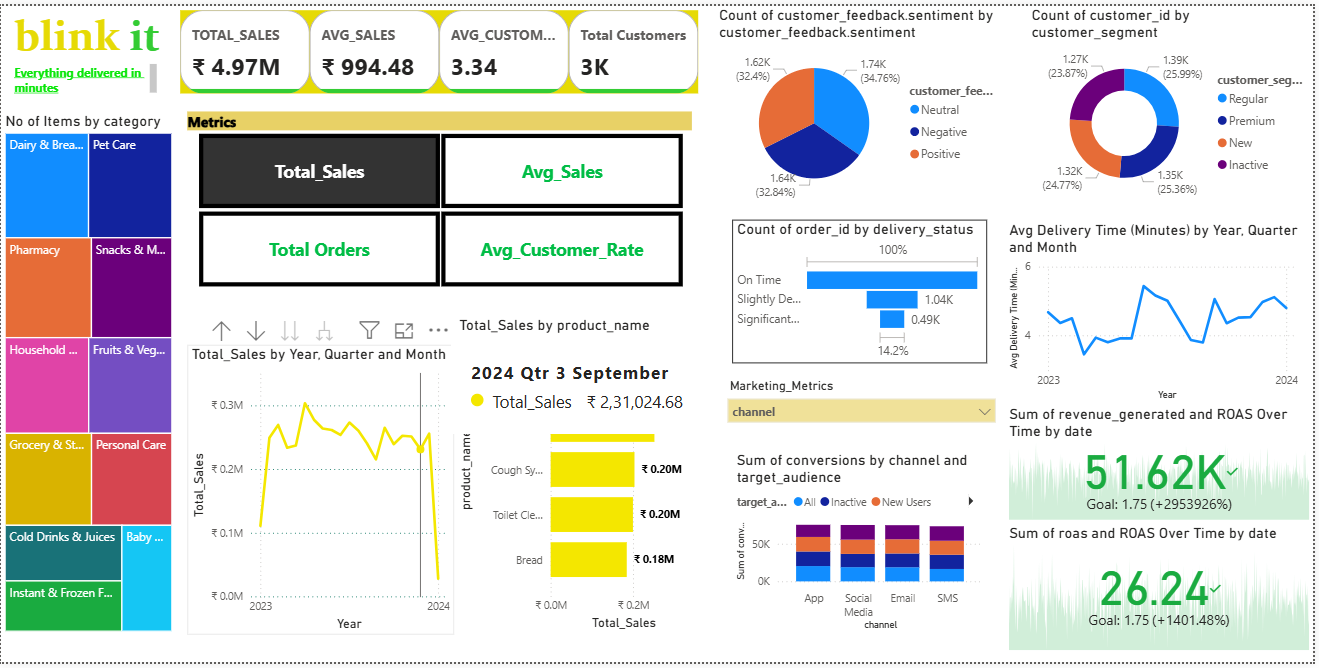

The dashboard page shown, as its layout file describes it:
{"tool":"powerbi","page":{"name":"Page 1","canvas":[1500,750],"ordinal":0},"visuals":[{"type":"lineChart","fields":{"Y":["orders_details.Total_Sales"],"Category":["orders_details.order_date.Variation.Date Hierarchy.Year","orders_details.order_date.Variation.Date Hierarchy.Quarter","orders_details.order_date.Variation.Date Hierarchy.Month"]},"box":[213.3,386.7,305,331.7],"z":0},{"type":"barChart","fields":{"Y":["orders_details.Total_Sales"],"Category":["product_data.product_name"]},"box":[518.3,355,301.7,363.3],"z":1000},{"type":"pieChart","fields":{"Y":["CountNonNull(customers_detail.customer_feedback.sentiment)"],"Category":["customers_detail.customer_feedback.sentiment"]},"box":[815.7,0,331.4,230],"z":2000},{"type":"donutChart","fields":{"Category":["customers_detail.customer_segment"],"Y":["CountNonNull(customers_detail.customer_id)"]},"box":[1172.9,0,327.1,230],"z":3000},{"type":"funnel","fields":{"Category":["delivery_performance.delivery_status"],"Y":["CountNonNull(delivery_performance.order_id)"]},"box":[835.7,244.3,291.4,164.3],"z":4000},{"type":"textbox","box":[9.6,0,190.7,76.8],"z":5000},{"type":"textbox","box":[9.6,61.7,172.9,43.9],"z":6000},{"type":"cardVisual","fields":{"Data":["orders_details.Total_Sales","orders_details.Avg_Sales","customers_detail.Avg_Customer_Rate","customers_detail.Total Customers"]},"box":[200,0,603.3,105],"z":7000},{"type":"treemap","fields":{"Group":["product_data.category"],"Values":["product_data.No of Items"]},"box":[0,120.8,200.3,598.3],"z":8000},{"type":"columnChart","fields":{"Category":["marketing_performance.channel"],"Series":["marketing_performance.target_audience"],"Y":["Sum(marketing_performance.conversions)"]},"box":[836,508,292,210],"z":9000},{"type":"slicer","fields":{"Values":["Marketing_Metrics.Marketing_Metrics"]},"box":[820,420,326.7,81.7],"z":10000},{"type":"slicer","fields":{"Values":["Metrics 2.Metrics"]},"box":[200,115.7,602.9,211.4],"z":11000},{"type":"lineChart","fields":{"Y":["delivery_performance.Avg Delivery Time (Minutes)"],"Category":["delivery_performance.actual_time.Variation.Date Hierarchy.Year","delivery_performance.actual_time.Variation.Date Hierarchy.Quarter","delivery_performance.actual_time.Variation.Date Hierarchy.Month"]},"box":[1146.7,245,340,210],"z":12000},{"type":"kpi","fields":{"TrendLine":["marketing_performance.date"],"Goal":["marketing_performance.ROAS Over Time"],"Indicator":["Sum(marketing_performance.revenue_generated)"]},"box":[1146.7,455,353.3,136.7],"z":13000},{"type":"kpi","fields":{"Goal":["marketing_performance.ROAS Over Time"],"TrendLine":["marketing_performance.date"],"Indicator":["Sum(marketing_performance.roas)"]},"box":[1147,592,353,150],"z":14000}]}

Visuals, with their boxes in screenshot pixels (x1, y1, x2, y2), scaled from the page's 1500x750 canvas onto the 1319x668 screenshot:
lineChart - orders_details.Total_Sales x orders_details.order_date.Variation.Date Hierarchy.Year: region(188, 344, 456, 640)
barChart - orders_details.Total_Sales x product_data.product_name: region(456, 316, 721, 640)
pieChart - CountNonNull(customers_detail.customer_feedback.sentiment) x customers_detail.customer_feedback.sentiment: region(717, 0, 1009, 205)
donutChart - customers_detail.customer_segment x CountNonNull(customers_detail.customer_id): region(1031, 0, 1318, 205)
funnel - delivery_performance.delivery_status x CountNonNull(delivery_performance.order_id): region(735, 218, 991, 364)
textbox: region(8, 0, 176, 68)
textbox: region(8, 55, 160, 94)
cardVisual - orders_details.Total_Sales x orders_details.Avg_Sales: region(176, 0, 706, 94)
treemap - product_data.category x product_data.No of Items: region(0, 108, 176, 640)
columnChart - marketing_performance.channel x marketing_performance.target_audience: region(735, 452, 992, 639)
slicer - Marketing_Metrics.Marketing_Metrics: region(721, 374, 1008, 447)
slicer - Metrics 2.Metrics: region(176, 103, 706, 291)
lineChart - delivery_performance.Avg Delivery Time (Minutes) x delivery_performance.actual_time.Variation.Date Hierarchy.Year: region(1008, 218, 1307, 405)
kpi - marketing_performance.date x marketing_performance.ROAS Over Time: region(1008, 405, 1318, 527)
kpi - marketing_performance.ROAS Over Time x marketing_performance.date: region(1009, 527, 1318, 661)
